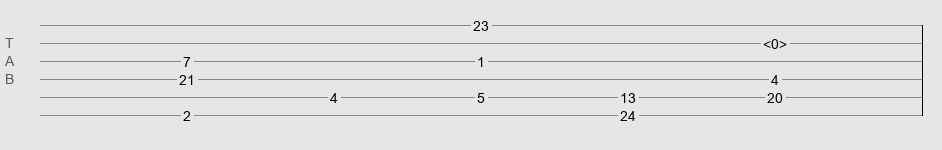1: (477, 54, 485, 64)
13: (620, 90, 636, 100)
2: (183, 108, 191, 118)
20: (767, 90, 783, 100)
21: (179, 72, 195, 82)
23: (473, 18, 489, 28)
24: (620, 108, 636, 118)
4: (330, 90, 338, 100), (771, 72, 779, 82)
5: (477, 90, 485, 100)
7: (183, 54, 191, 64)
harmonic: (763, 36, 787, 46)
